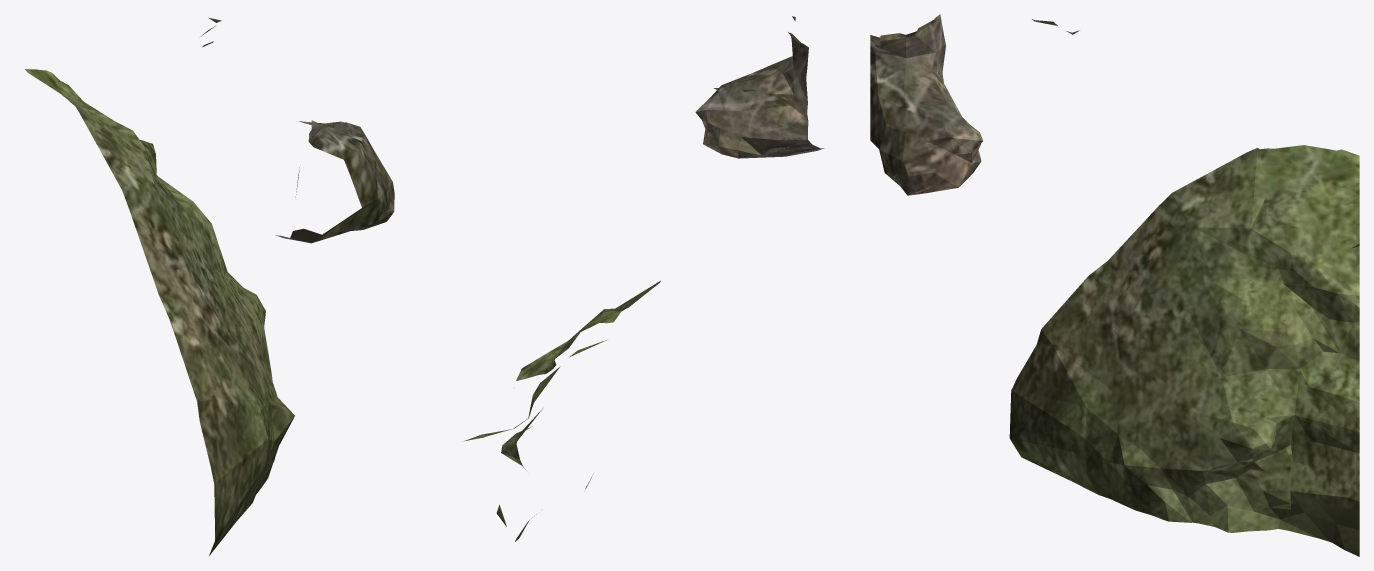
The picture shows the model from 3 angles, left to right: view 1: azimuth 30°, elevation 25°; view 2: azimuth 150°, elevation 25°; view 3: azimuth 270°, elevation 25°; orthographic projection. The views are drawn at different scales.
Bounding box in the file's own units: 1.42 × 2.95 × 2.95.
2 materials, 2 textured.
